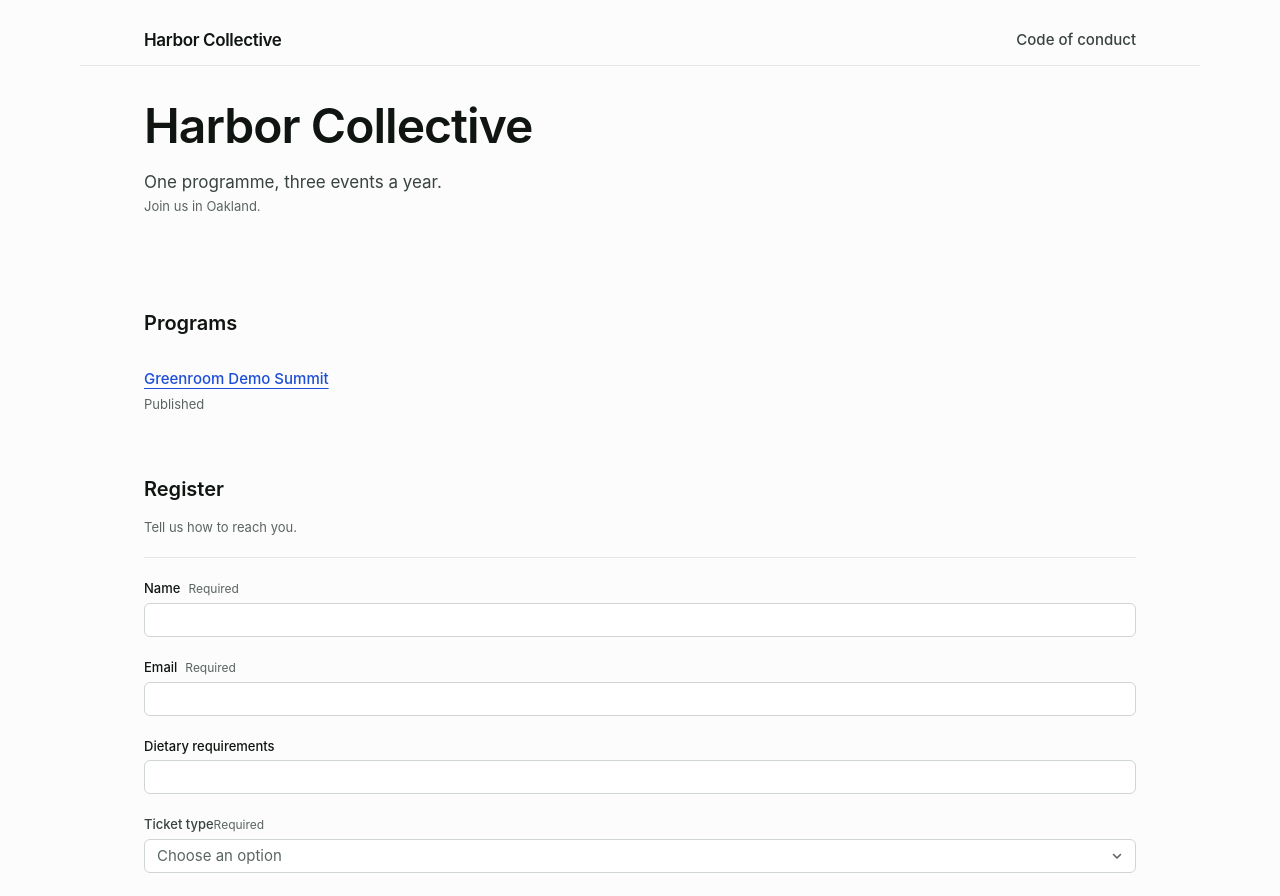
Test: highlights the built-in email field the server refused
Expected: the heading "Harbor Collective" is shown, x1=144 y1=96 x2=532 y2=155
Type "Pat Attendee" into the field labelled "Name Required" at (640, 620), box x1=144 y1=603 x2=1136 y2=637
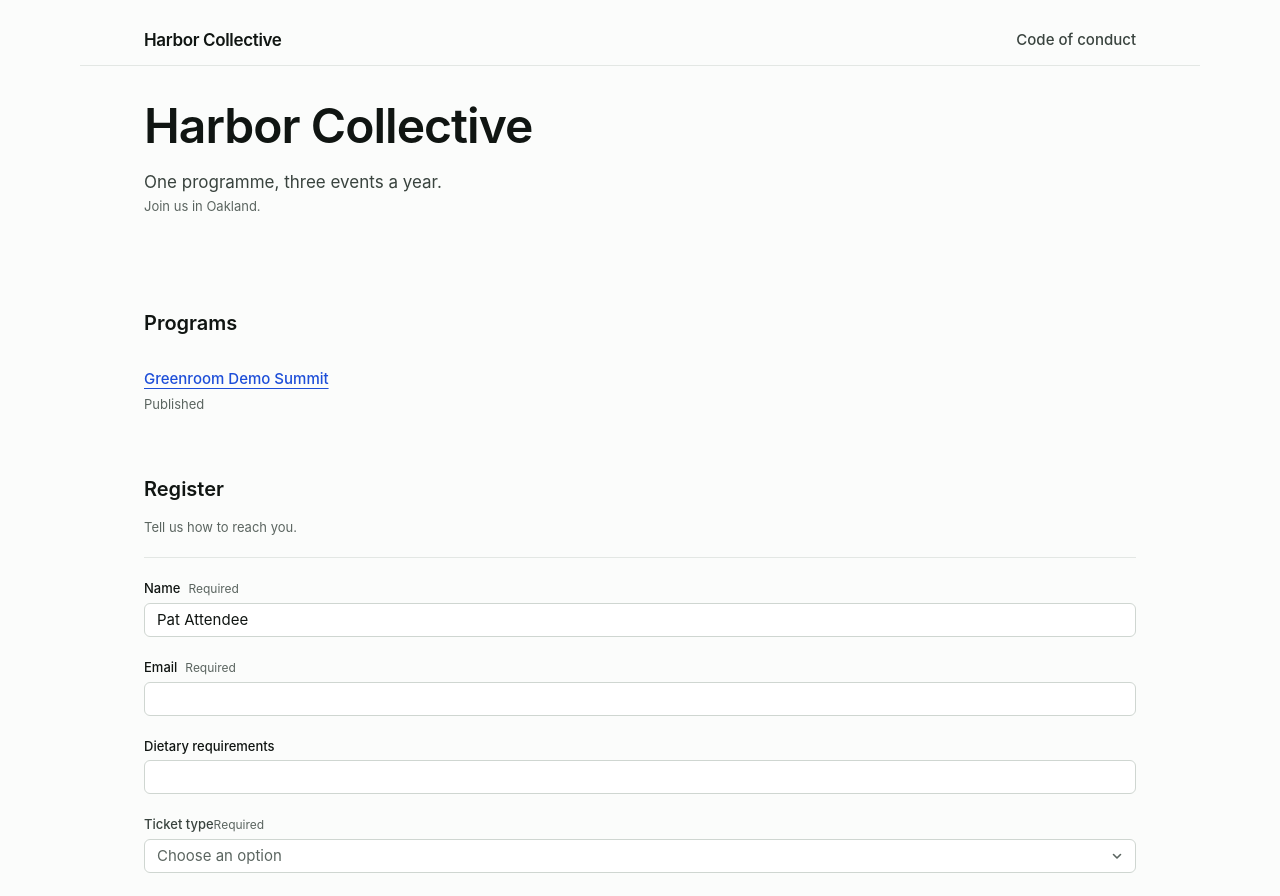
Type "pat@example.com" into the field labelled "Email Required" at (640, 699), box x1=144 y1=682 x2=1136 y2=716
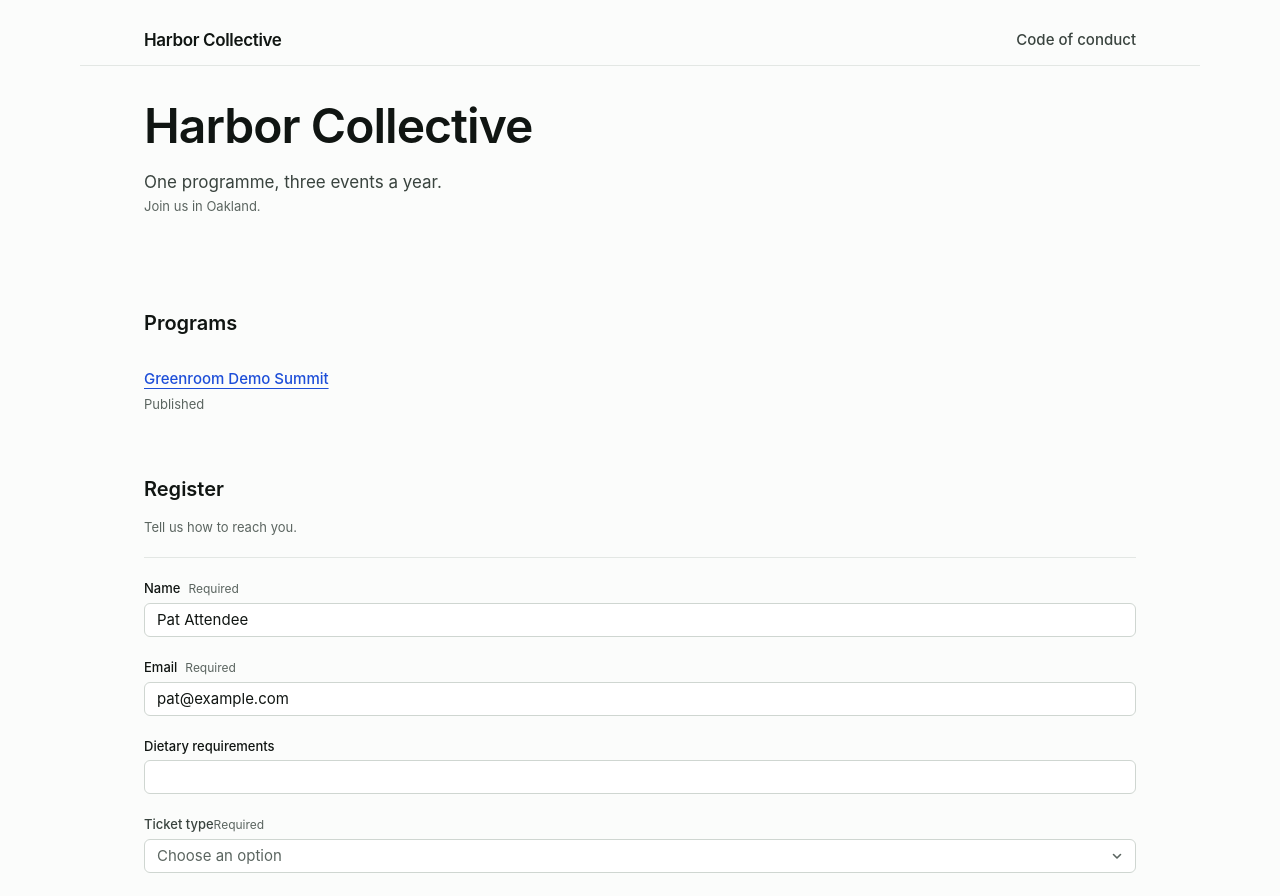
Press ArrowDown in the dropdown named "Ticket type", box x1=144 y1=839 x2=1136 y2=873
(page scrolled)
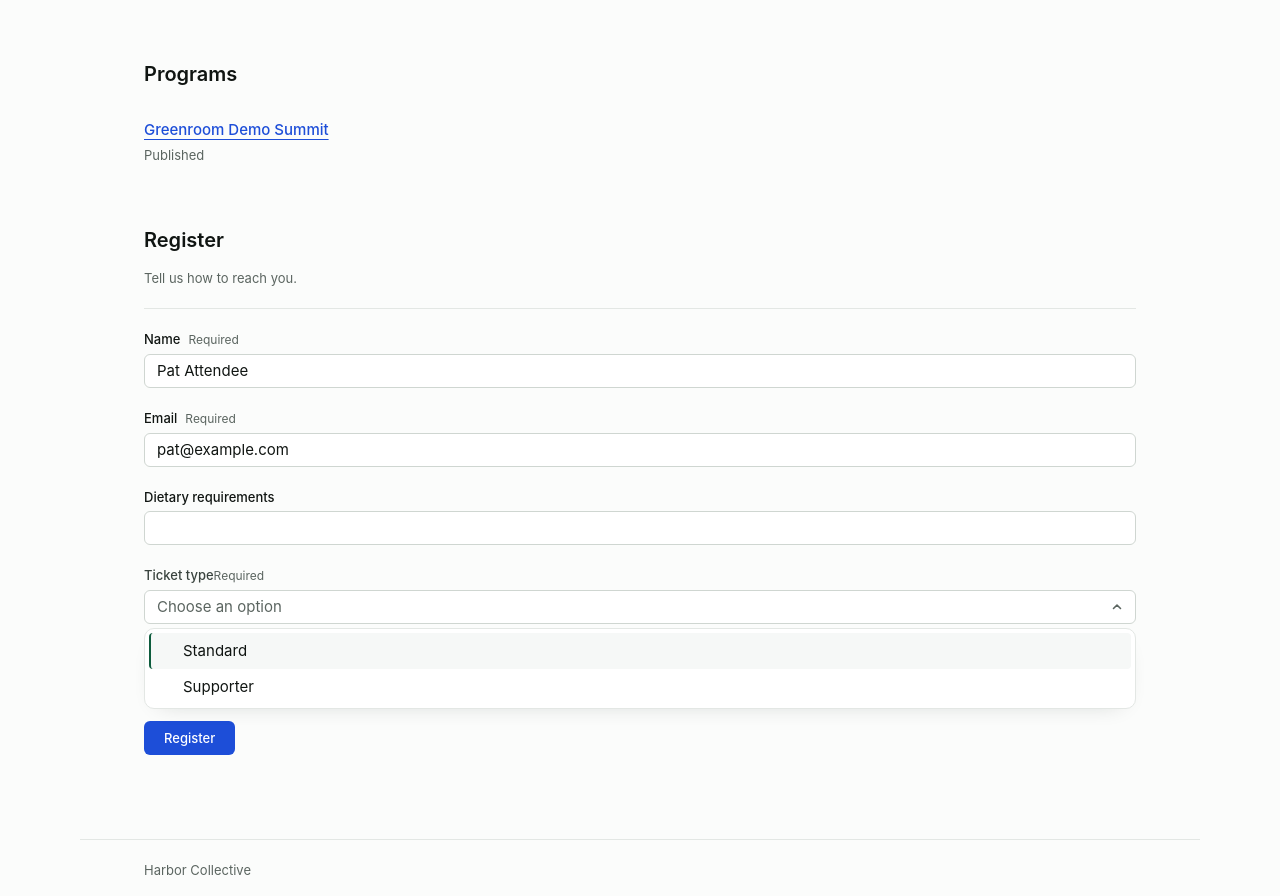
Click the option "Supporter" at (218, 686), box x1=183 y1=677 x2=254 y2=696
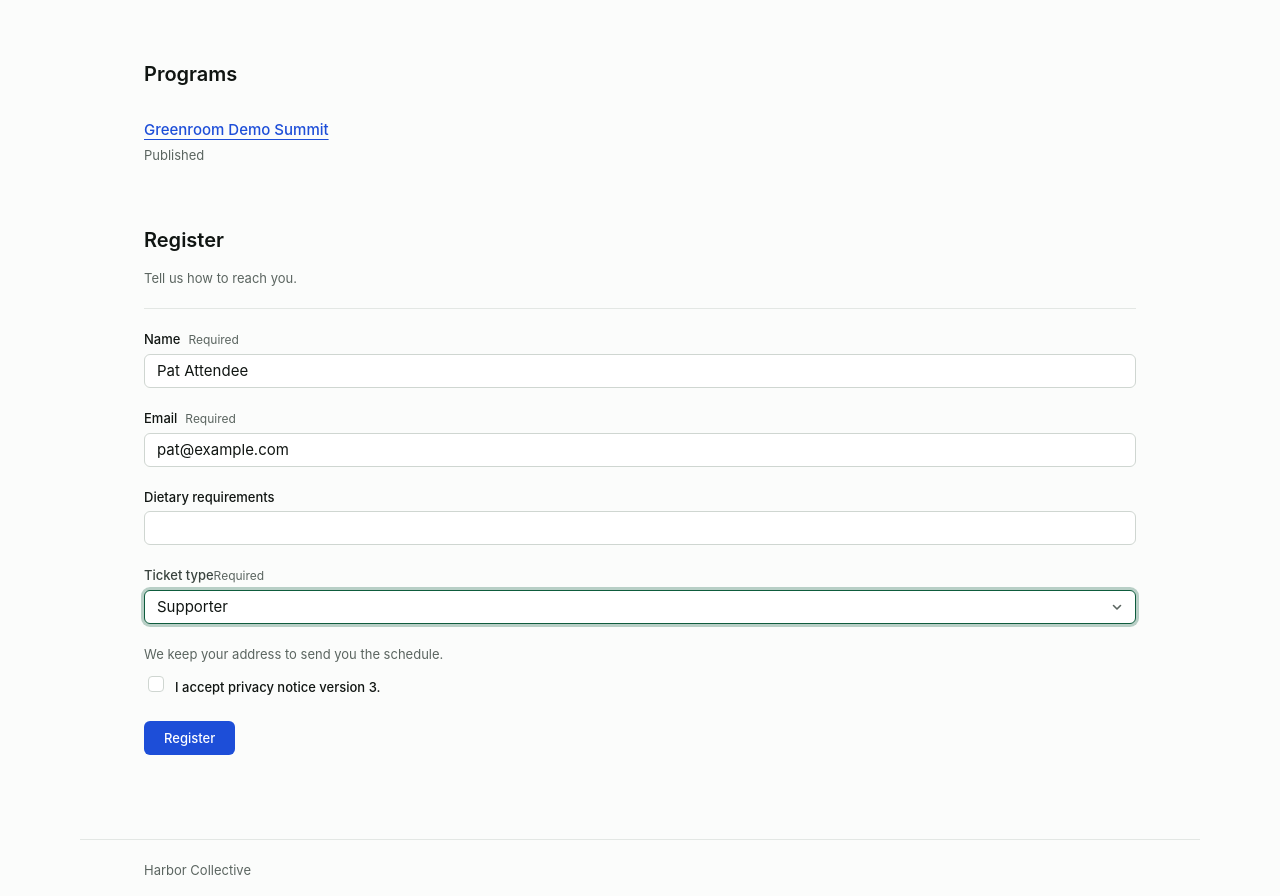
Click the checkbox labelled "I accept privacy notice version 3." at (156, 684), box x1=148 y1=676 x2=164 y2=692
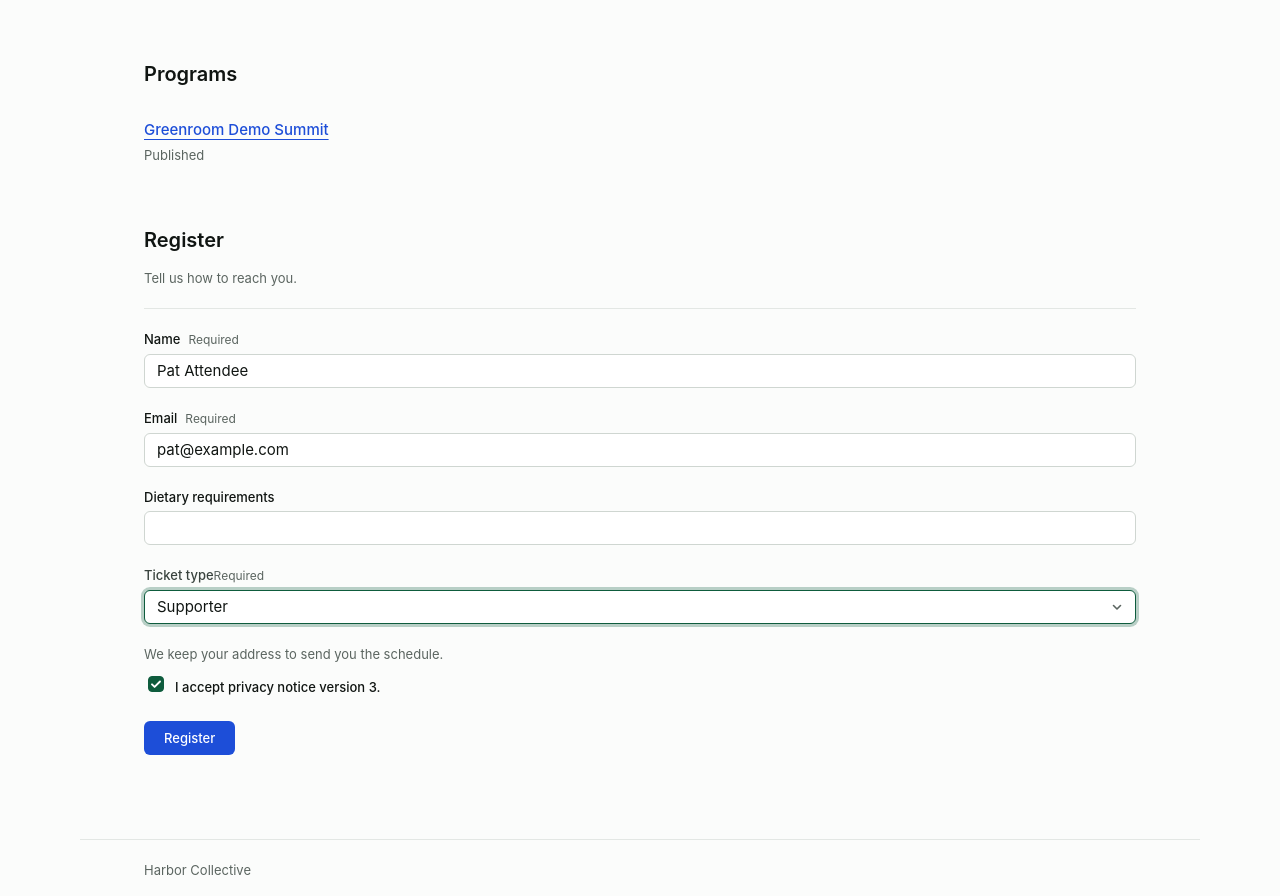
Submit the form from the button "Register", box x1=144 y1=721 x2=235 y2=755
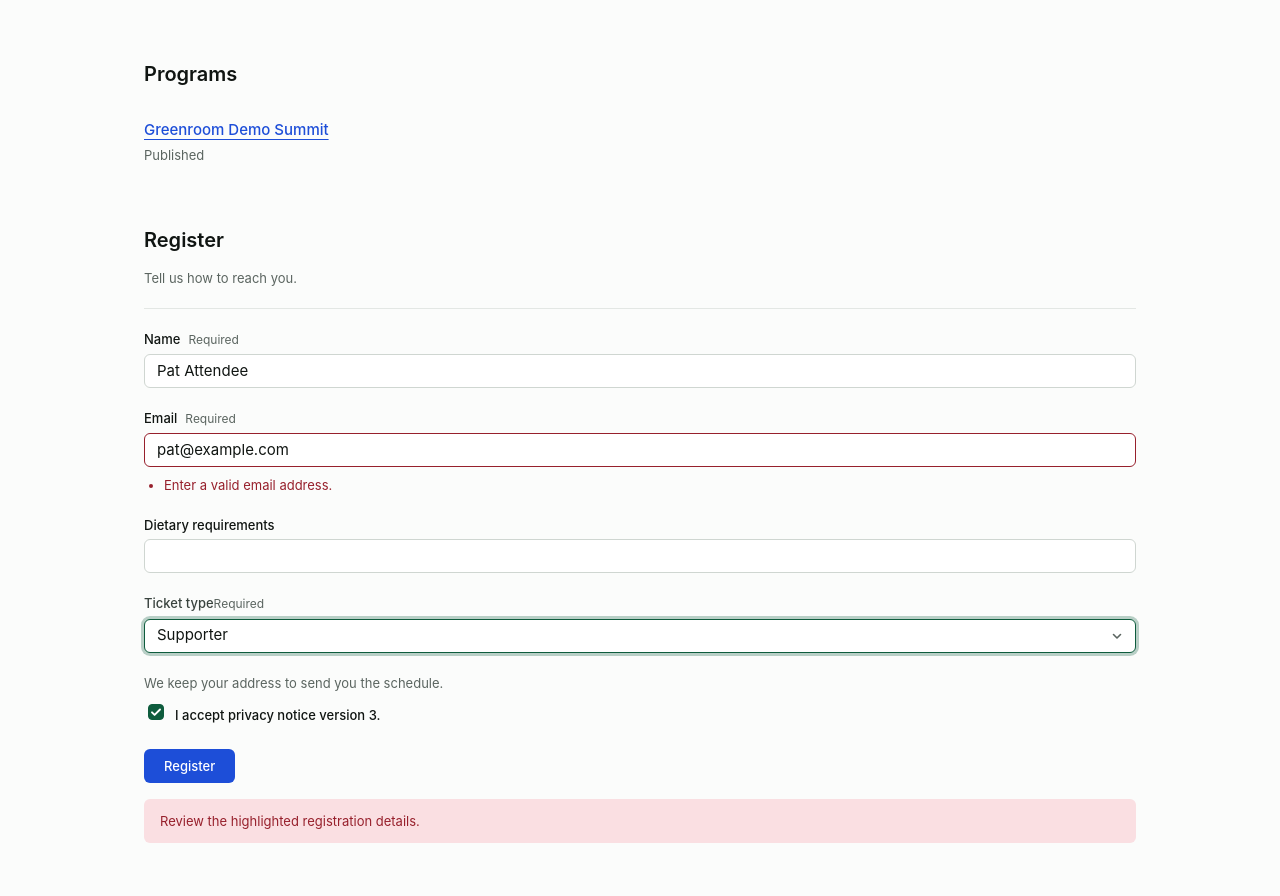
Now the list item "Enter a valid email address." is shown, box x1=164 y1=477 x2=332 y2=493
Now the message reads "Review the highlighted registration details.", box x1=160 y1=813 x2=420 y2=829
